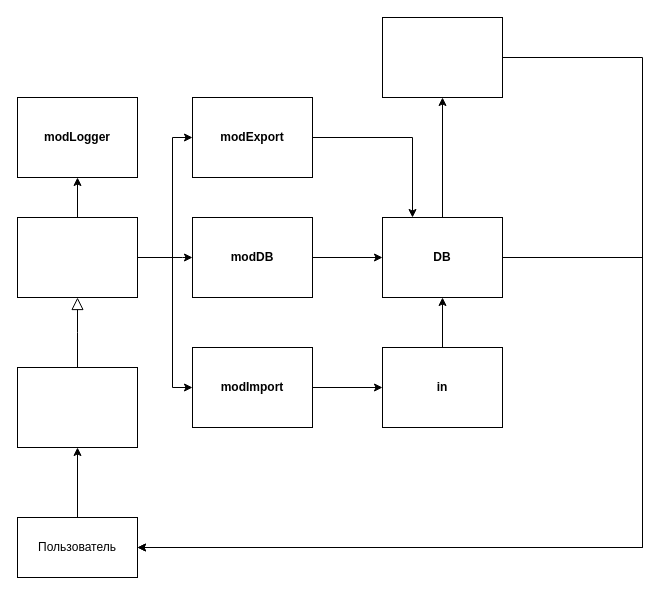
This 668x595 diagram has some shape labels left out. Each missing label, with the centre of its shape:
"modControl" belongs at (77,257).
"modUI" belongs at (77,407).
"out" belongs at (442,57).
